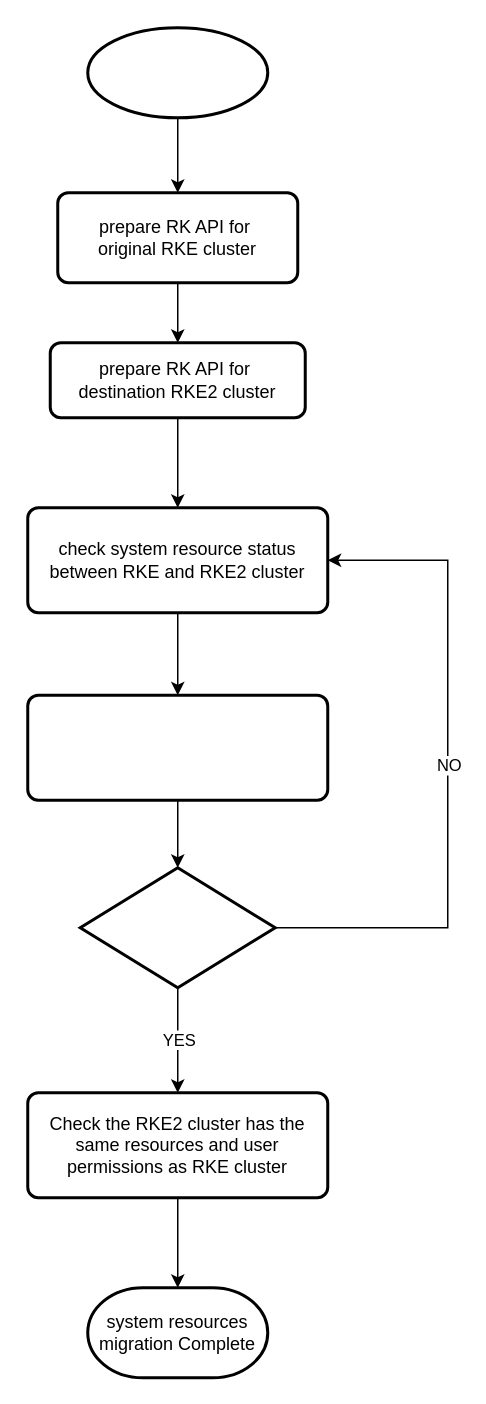
The diagram is 486 pixels wide and 1404 high, and some of its shapes have lost their labels. The shapes that lost their labels are listed below. From the top down, each one's centre as x and y in pixels, then its label:
At point 177,72: "system resources migration Start".
At point 177,747: "Migrate system resources to RKE2 cluster".
At point 177,927: "Success".
